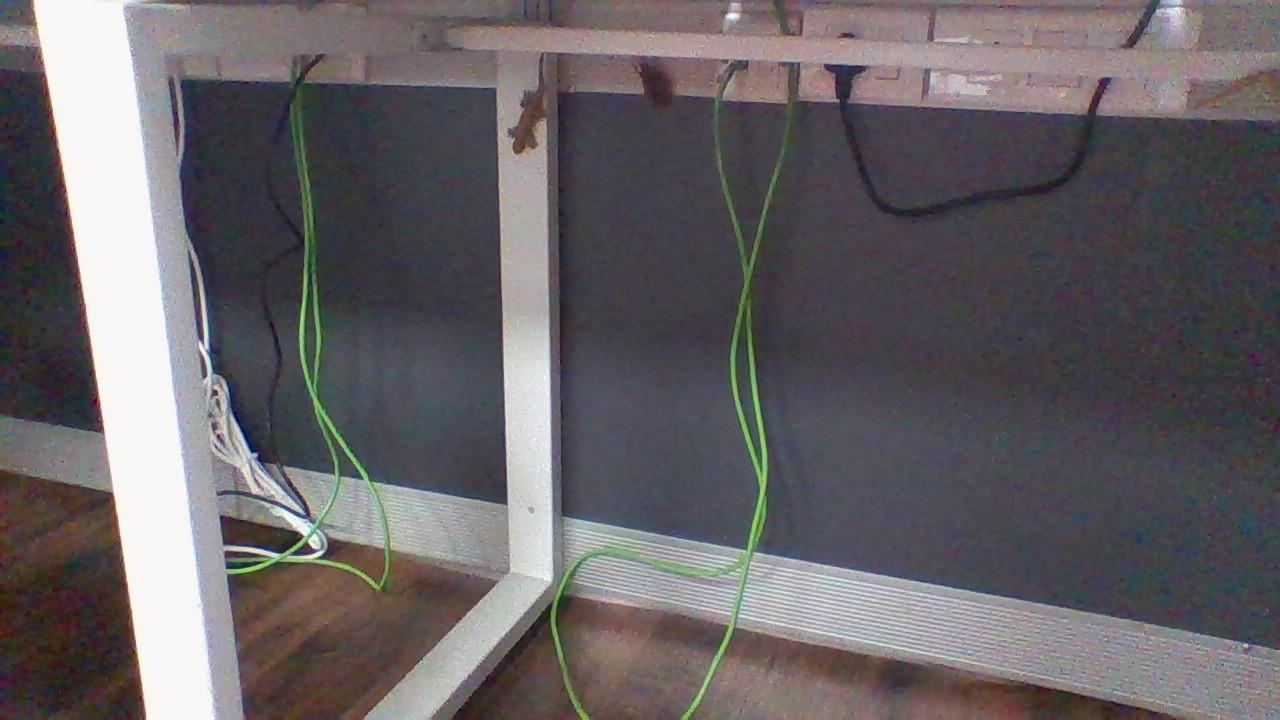cockroach: (626, 46, 680, 118)
lizard: (506, 47, 558, 169)
